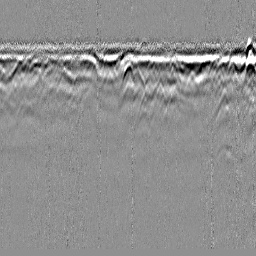cavity: (122, 62, 134, 82)
